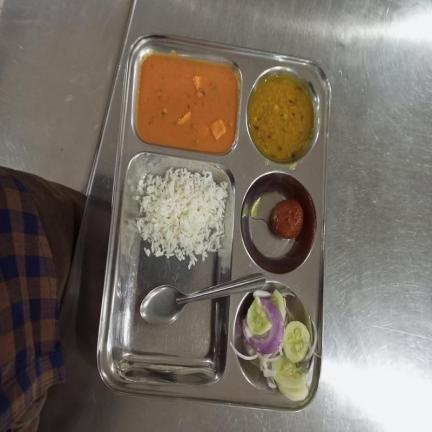Chana Dal: (247, 74, 312, 160)
Gulab Jamun: (270, 199, 306, 239)
Paneer: (135, 54, 238, 154)
Plate: (96, 33, 332, 414)
Rice: (135, 166, 229, 259)
Salad: (226, 283, 318, 402)
